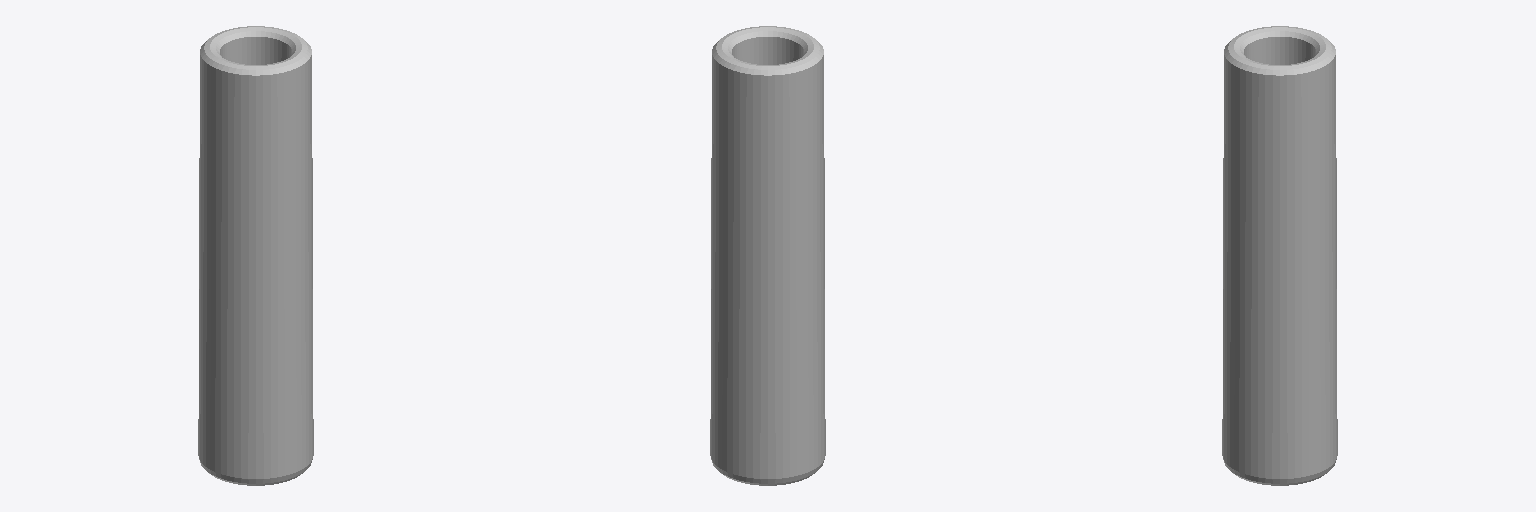
The model's file is OrangeTube.obj.
3 views of the same model, side by side, from view 1: azimuth 30°, elevation 25°; view 2: azimuth 150°, elevation 25°; view 3: azimuth 270°, elevation 25° (orthographic).
Parts seen in each view (by area): view 1: Torus.001; view 2: Torus.001; view 3: Torus.001.
Part boxes in pixels (left/top/right/bottom): Torus.001: left=198, top=26, right=313, bottom=485; Torus.001: left=710, top=26, right=825, bottom=485; Torus.001: left=1222, top=26, right=1337, bottom=485.
Bounding box in the file's own units: 2.5 × 10.02 × 2.5.